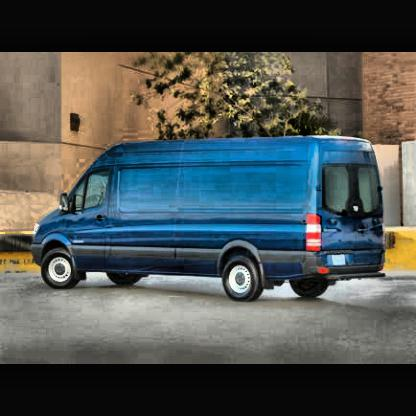Dodge Sprinter Cargo Van 2009: (33, 137, 385, 301)
